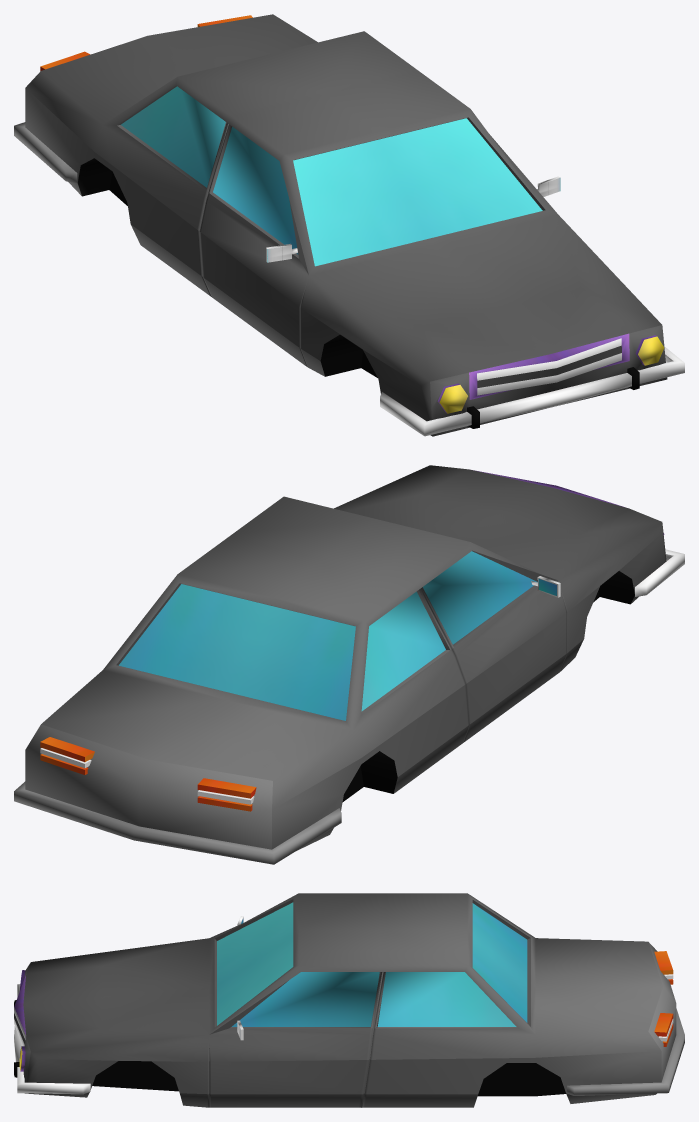
The model's file is Car_2.fbx.
3 views of the same model, one above another, from view 1: azimuth 30°, elevation 25°; view 2: azimuth 150°, elevation 25°; view 3: azimuth 270°, elevation 25° (orthographic). The views are drawn at different scales.
Visible parts, largest first — view 1: Car_2; view 2: Car_2; view 3: Car_2.
Part boxes in pixels (box(x1,y1,x2,y2)): Car_2: box(14, 14, 684, 436); Car_2: box(14, 465, 684, 864); Car_2: box(14, 893, 684, 1107).
Size of the model in its own units: 242 by 129 by 603.
1 material, 1 textured.
